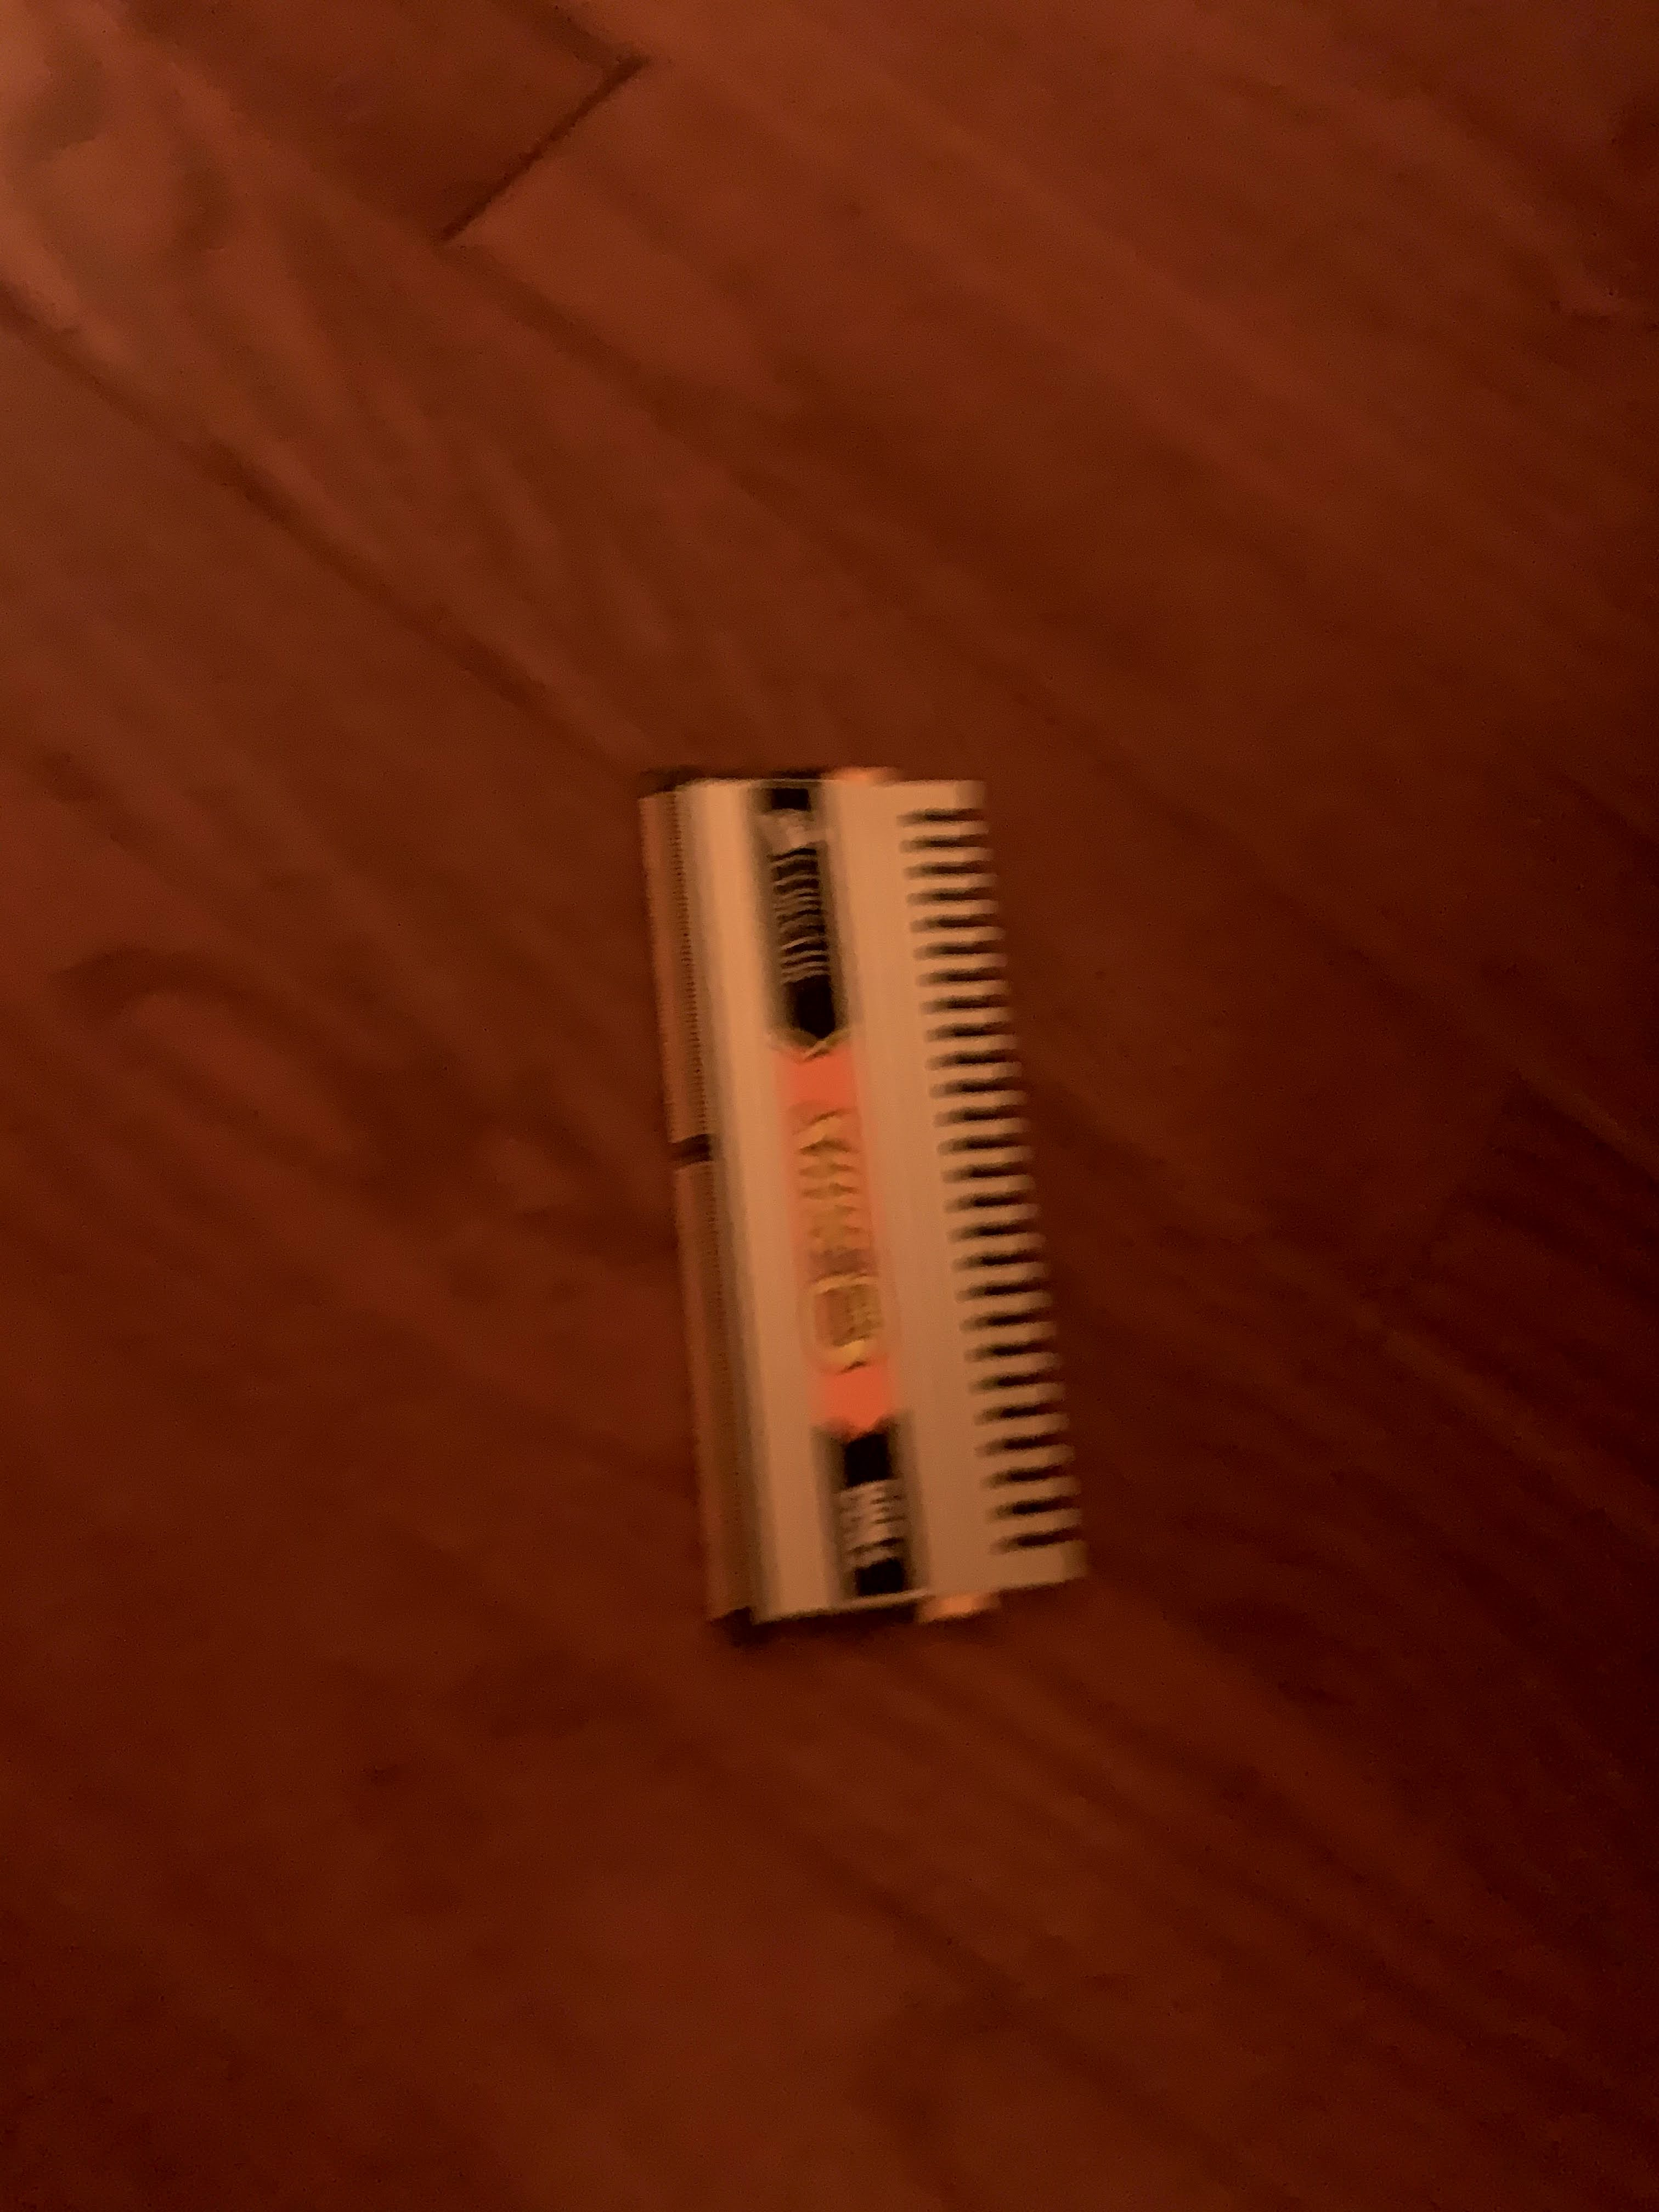Space-debris-medium: (589, 712, 1178, 1648)
